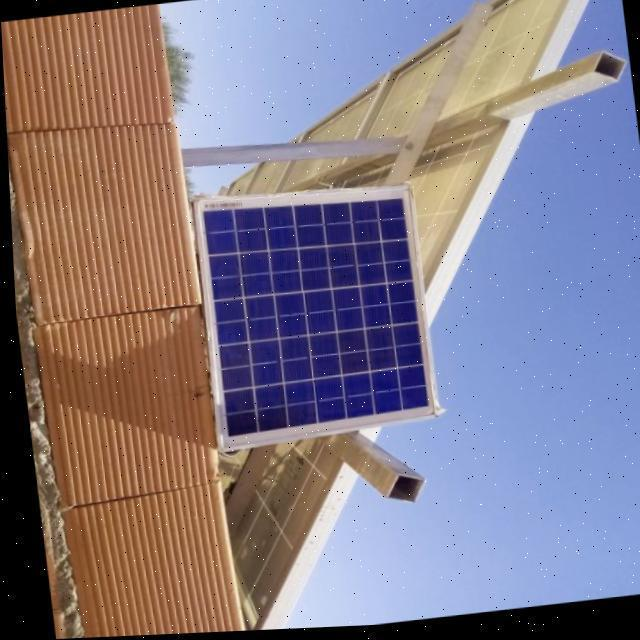Normal Solar Panel: (188, 178, 435, 454)
